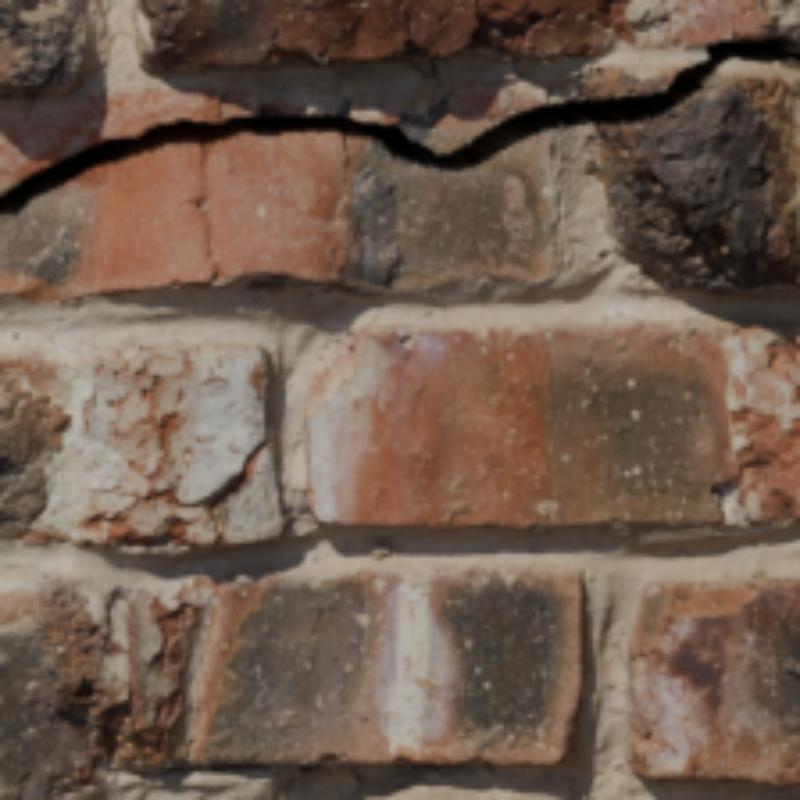pothole: (0, 32, 796, 214)
